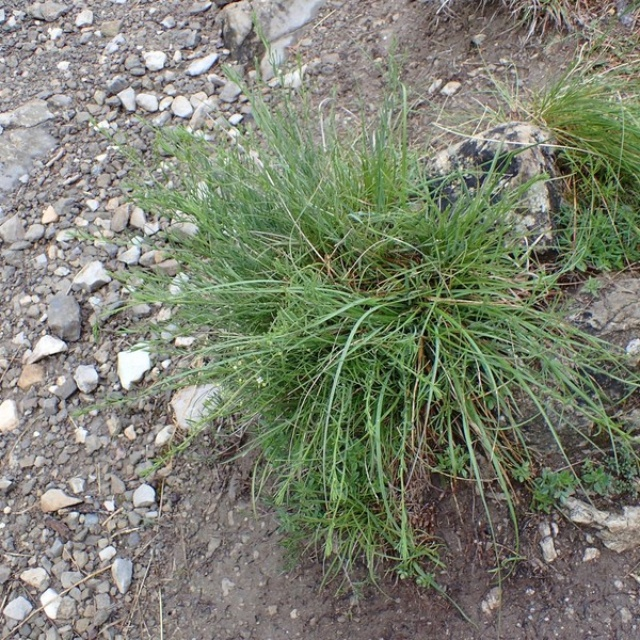obstacle: (167, 144, 561, 551)
